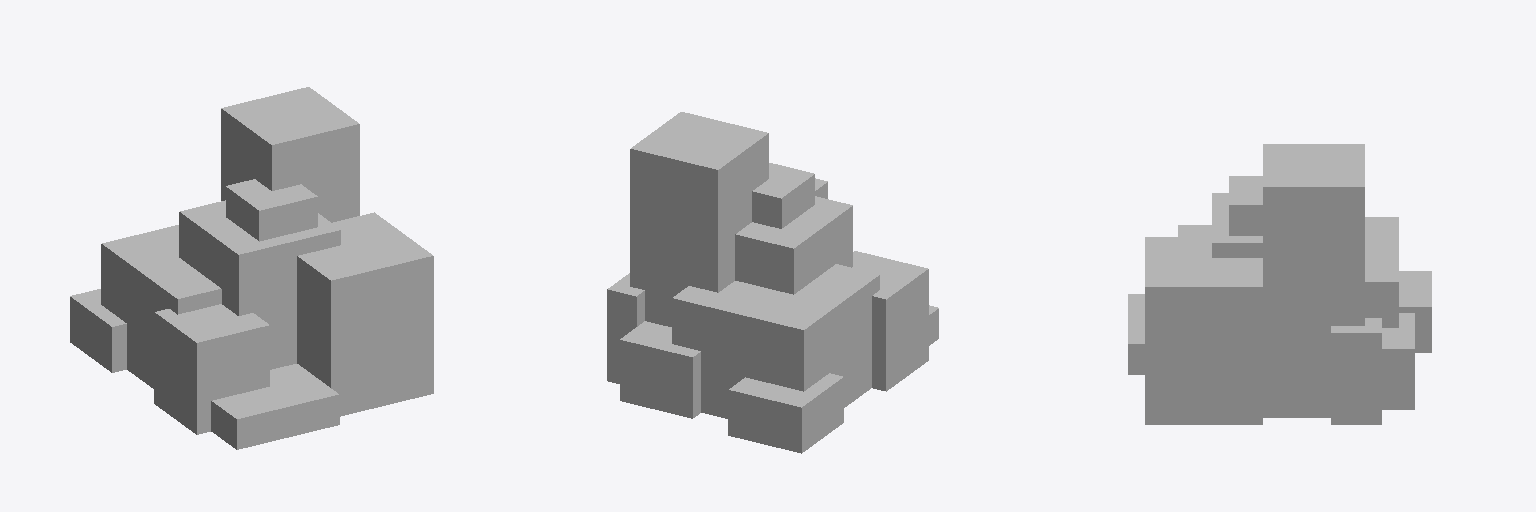
File: Rock.obj
The picture shows the model from 3 angles: view 1: azimuth 30°, elevation 25°; view 2: azimuth 150°, elevation 25°; view 3: azimuth 270°, elevation 25°; orthographic projection.
Visible parts, largest first — view 1: object 1; view 2: object 1; view 3: object 1.
Boxes of the visible parts, x1=… form: object 1: x1=70, y1=87, x2=433, y2=449; object 1: x1=607, y1=112, x2=938, y2=453; object 1: x1=1128, y1=144, x2=1431, y2=424.
Bounding box in the file's own units: 1.5 × 1.5 × 1.8.